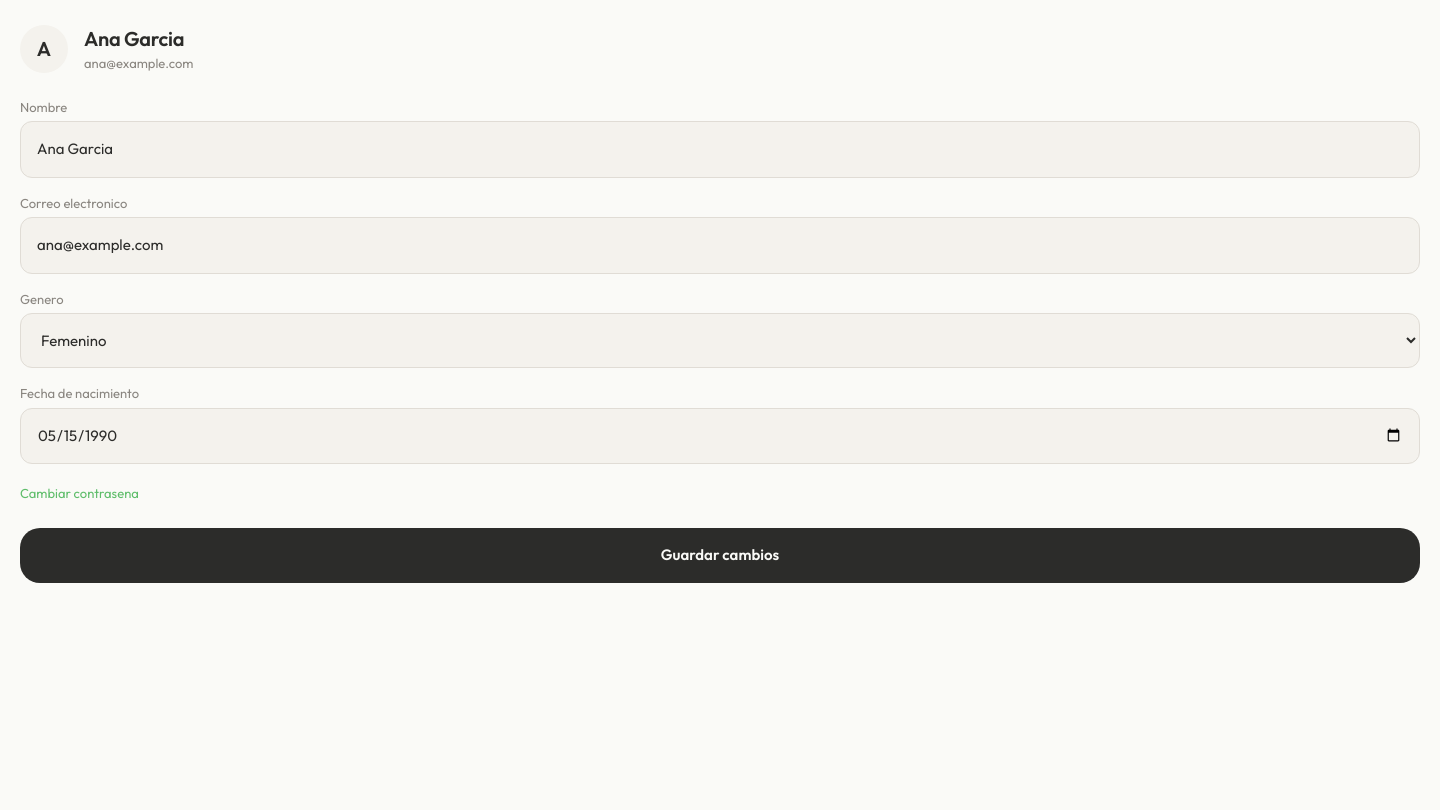
Scenario: ProfilePage › opens password change modal on Cambiar contrasena click
Expected: the field showing "Ana Garcia" is shown, [20,121,1420,178]
Expected: the field labelled "Contrasena actual" is not shown
Click the button "Cambiar contrasena".
click(79, 494)  # box [20,484,139,504]
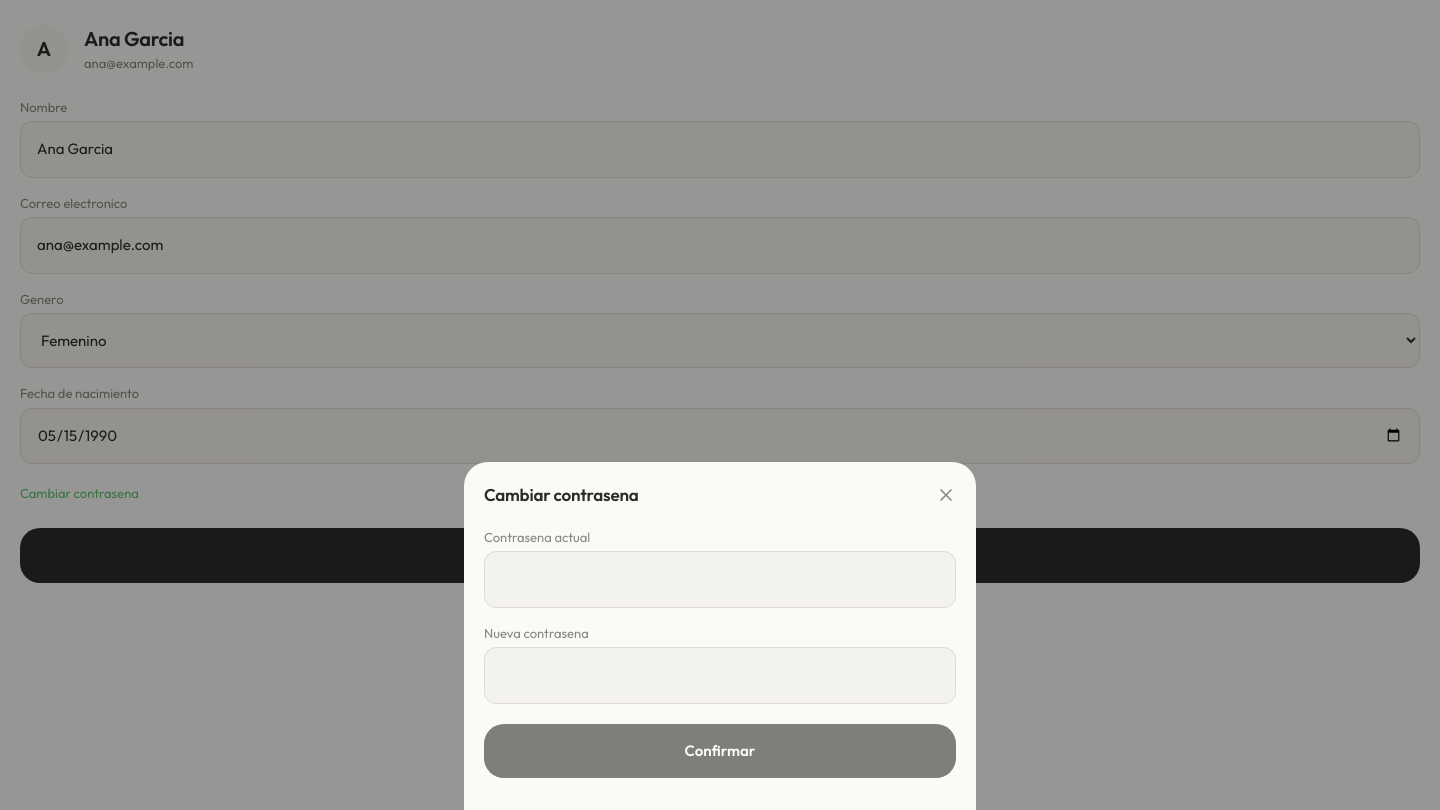
Now the password field labelled "Contrasena actual" is shown, box [484,551,956,608]
Now the password field labelled "Nueva contrasena" is shown, box [484,647,956,704]
